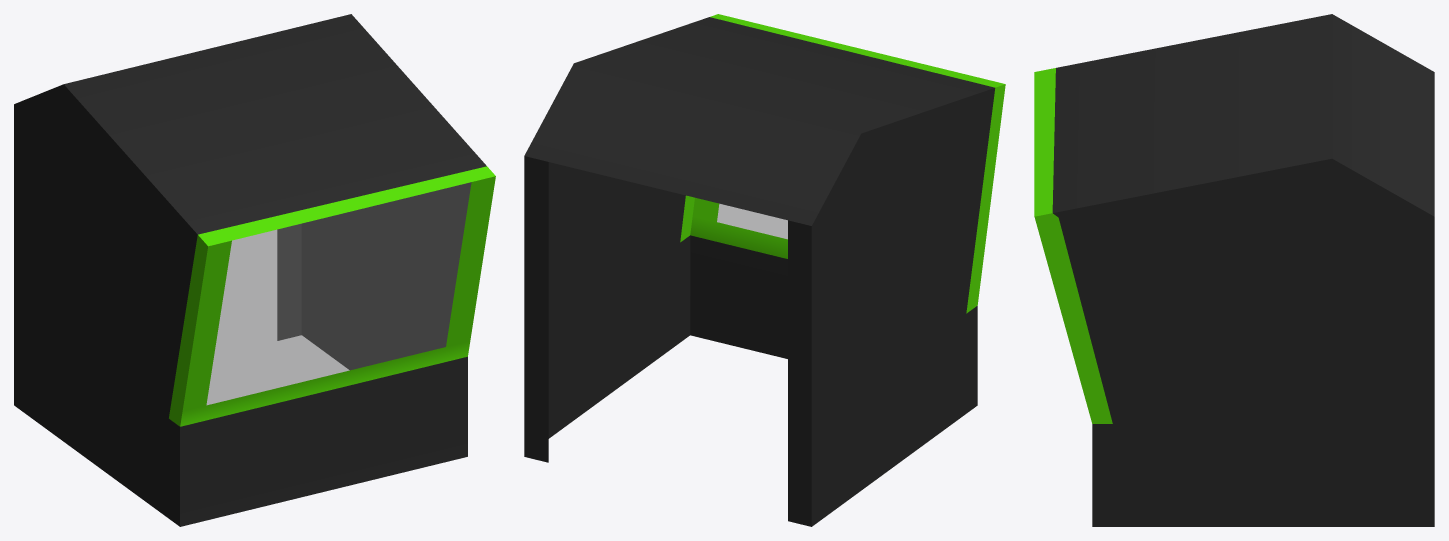
File: KSR_Booth.fbx
3 views of the same model, side by side, from view 1: azimuth 30°, elevation 25°; view 2: azimuth 150°, elevation 25°; view 3: azimuth 270°, elevation 25° (orthographic). The views are drawn at different scales.
Parts seen in each view (by area): view 1: pCube17; view 2: pCube17; view 3: pCube17.
Part boxes in pixels (left/top/right/bottom): pCube17: left=14, top=14, right=495, bottom=526; pCube17: left=524, top=14, right=1005, bottom=526; pCube17: left=1034, top=14, right=1434, bottom=526.
Bounding box in the file's own units: 103 × 122 × 121.
